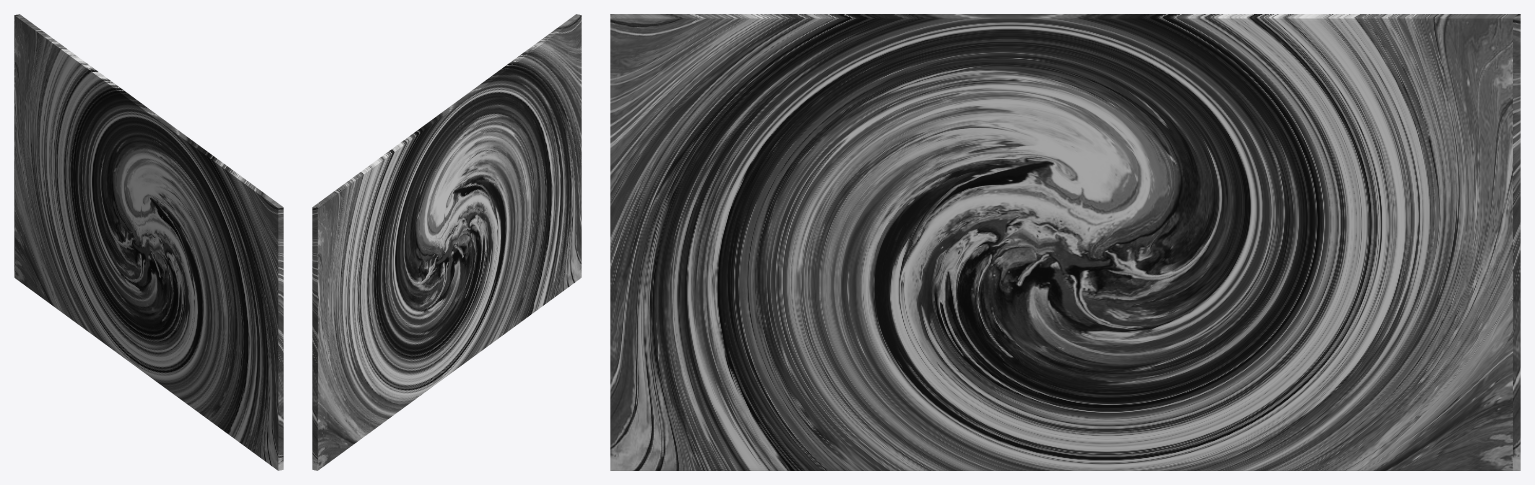
Rendered from Abstract painting.fbx.
3 renders of one model, left to right at view 1: azimuth 30°, elevation 25°; view 2: azimuth 150°, elevation 25°; view 3: azimuth 270°, elevation 25°, orthographic. The views are drawn at different scales.
Parts seen in each view (by area): view 1: Cube; view 2: Cube; view 3: Cube.
Part boxes in pixels (bbox=[...]): Cube: bbox=[14, 14, 283, 470]; Cube: bbox=[312, 14, 581, 470]; Cube: bbox=[610, 14, 1520, 470].
Size of the model in its own units: 5.94 by 283 by 515.
1 material, 1 textured.
